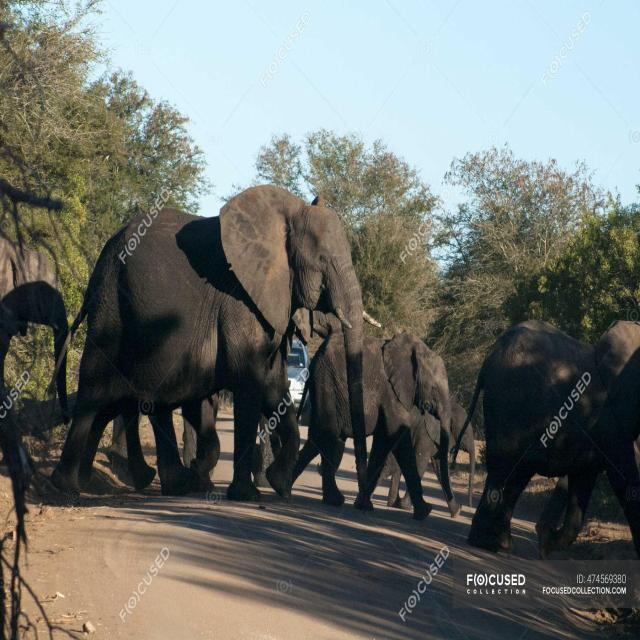Elephant: (51, 184, 383, 513), (308, 312, 462, 524)
